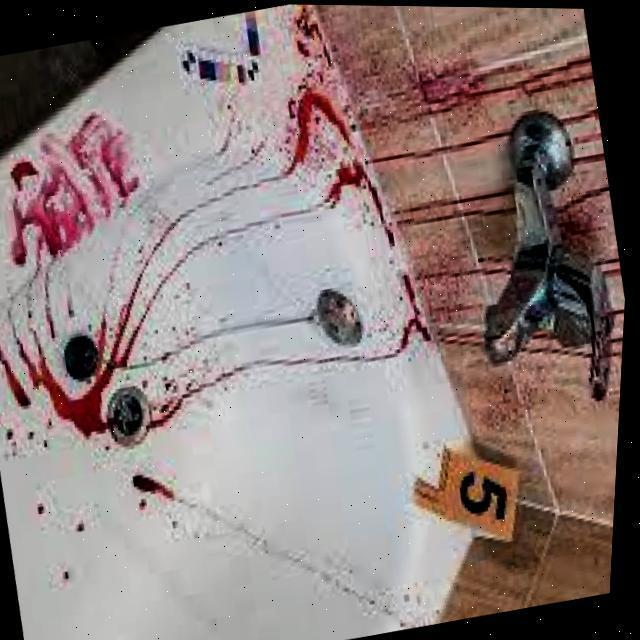knife: (288, 90, 350, 161), (48, 383, 106, 438), (92, 323, 142, 384), (100, 134, 138, 198), (323, 159, 371, 209), (25, 168, 66, 223), (17, 339, 53, 389), (0, 351, 31, 409), (148, 397, 186, 431), (39, 214, 66, 259), (397, 317, 432, 351), (130, 474, 173, 501), (11, 200, 27, 268), (10, 159, 40, 191), (65, 177, 87, 215), (292, 15, 320, 40), (67, 136, 87, 170), (370, 184, 383, 222), (401, 274, 417, 302), (65, 217, 78, 248), (88, 170, 104, 195), (319, 42, 334, 68), (294, 41, 310, 59), (298, 72, 312, 89), (411, 302, 421, 316)
